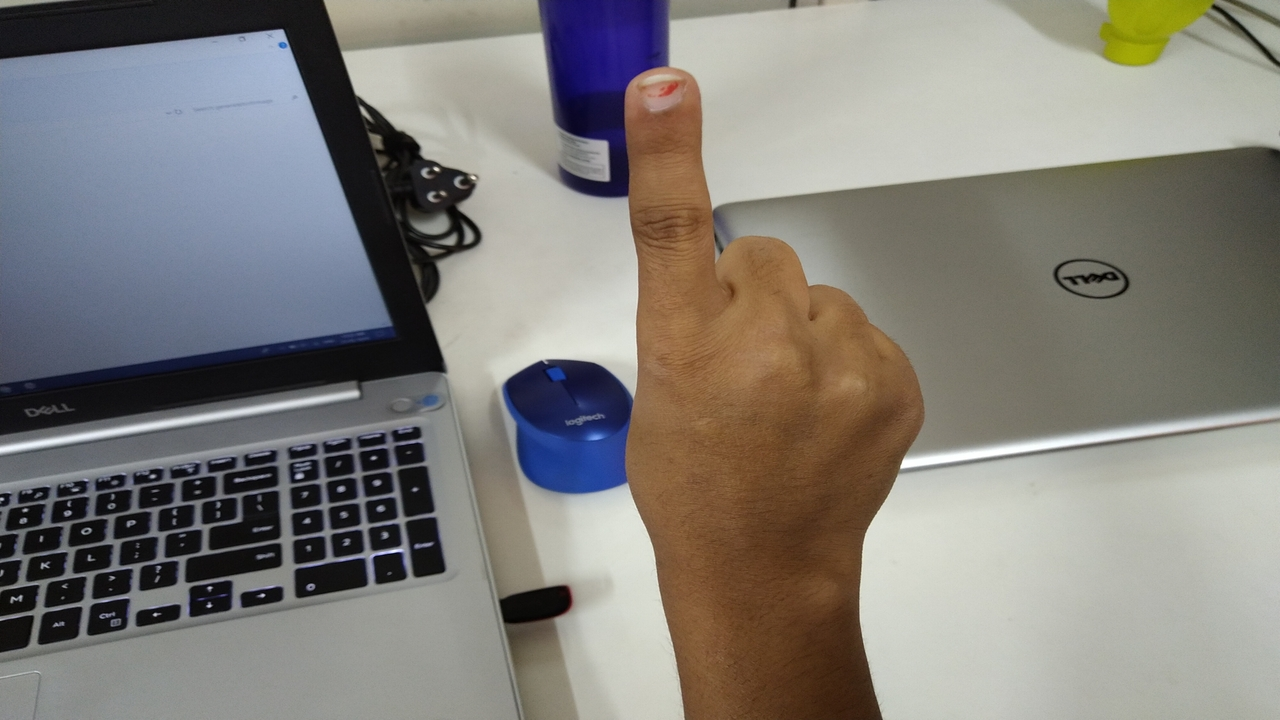fingertip: (622, 62, 704, 128)
